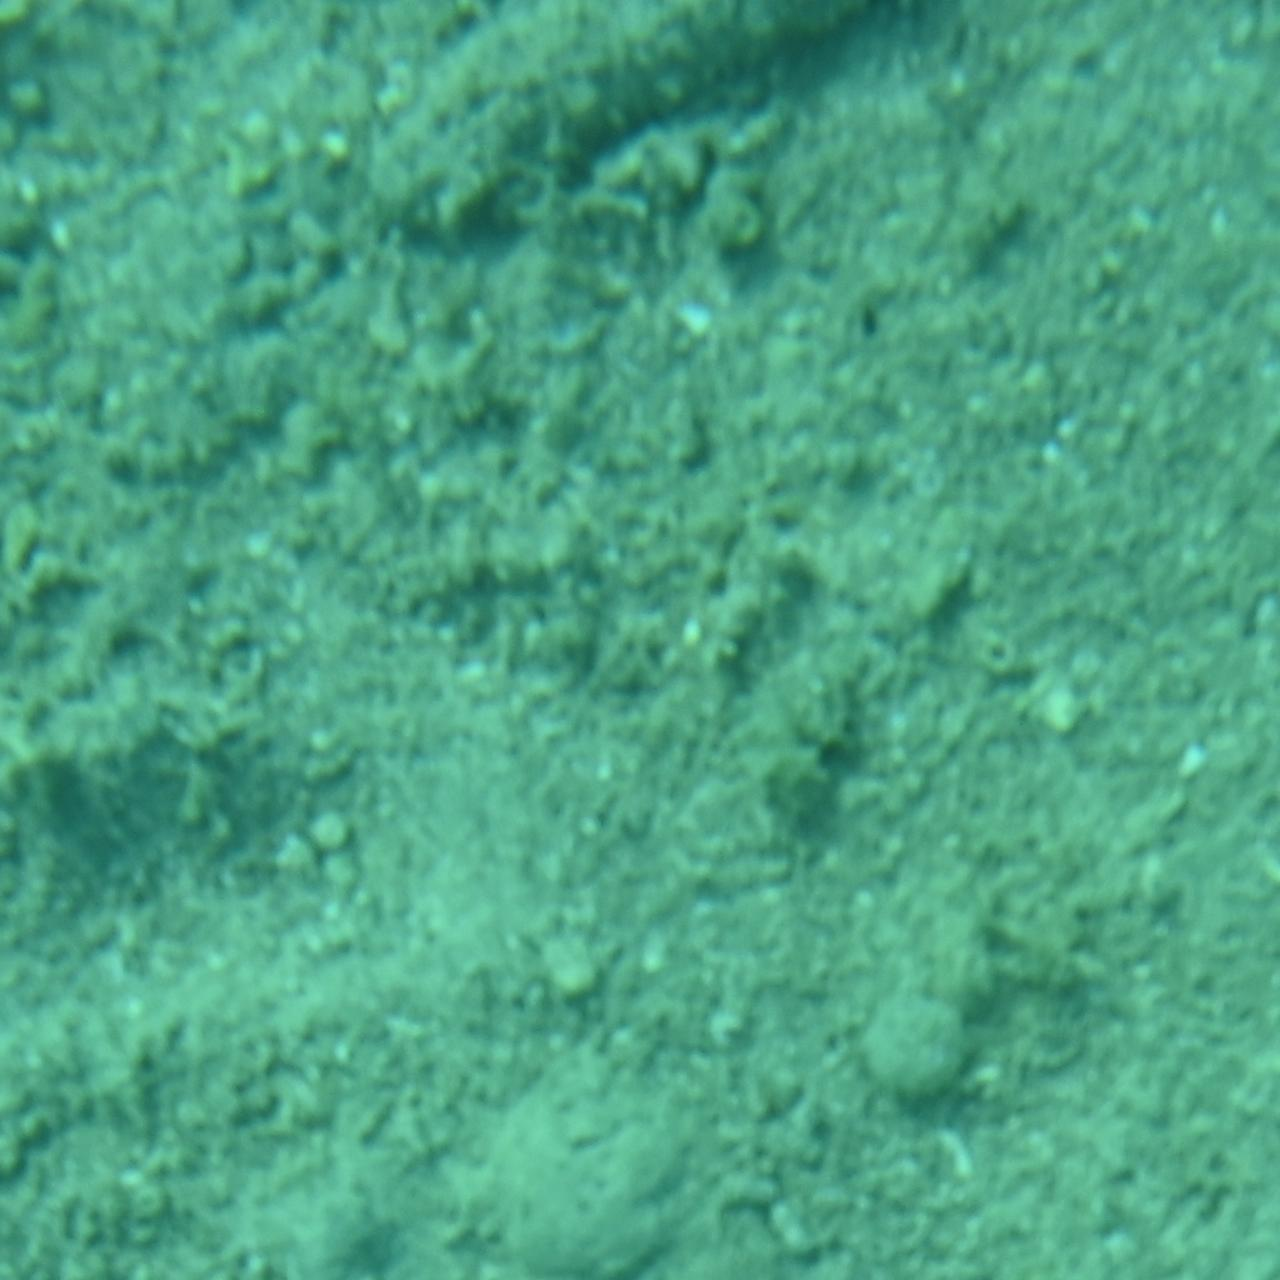Holothuria tubulosa: (380, 0, 900, 270)
